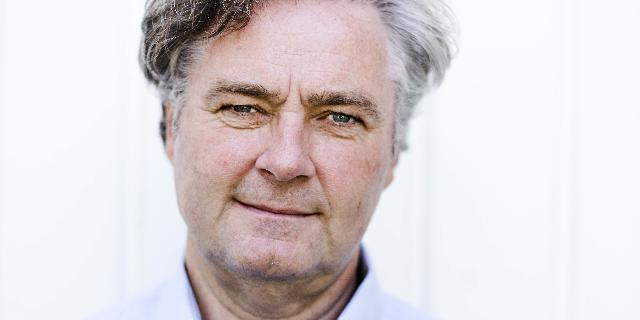crows_feet: (199, 105, 221, 119)
forehead: (296, 46, 336, 62), (250, 53, 286, 69)
frown_line: (279, 82, 293, 108), (296, 82, 308, 108)
